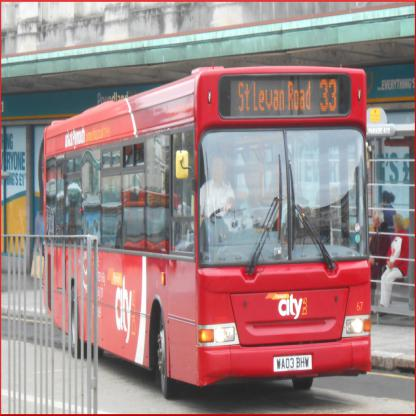Bus: (44, 62, 372, 399)
